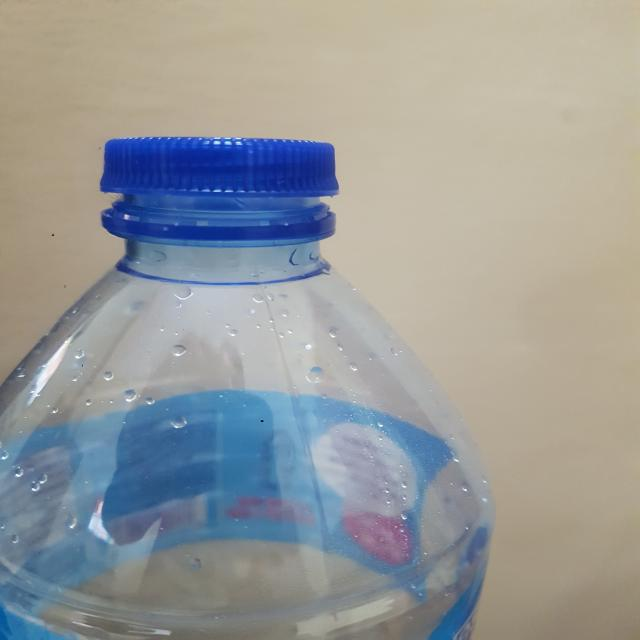general: (1, 135, 497, 638)
